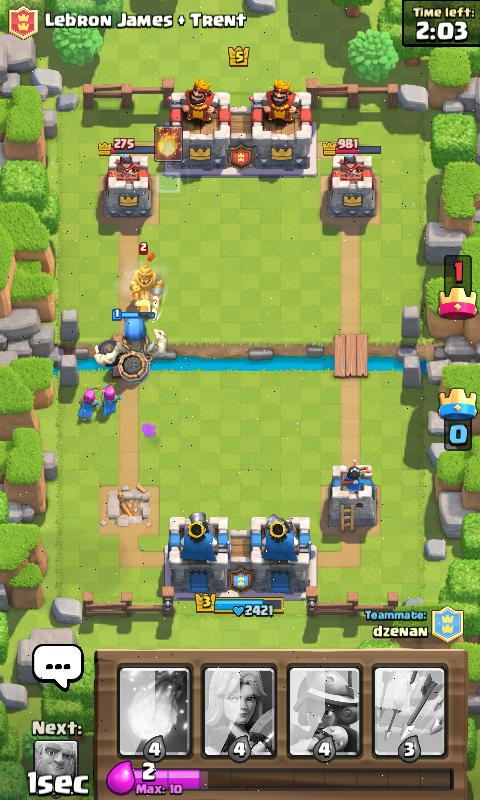EKingTower: (250, 80, 314, 170), (166, 79, 229, 170)
EPrince: (130, 254, 163, 319)
EnemyPrincessTower: (104, 154, 158, 217), (327, 151, 375, 216)
OArcher: (100, 382, 121, 416), (78, 388, 95, 421)
OGiantSkeleton: (96, 314, 166, 382)
OwnKingTower: (164, 512, 229, 598), (251, 514, 315, 598)
OwnPrincessTower: (321, 461, 379, 532)
TowerDown: (100, 487, 158, 536)
